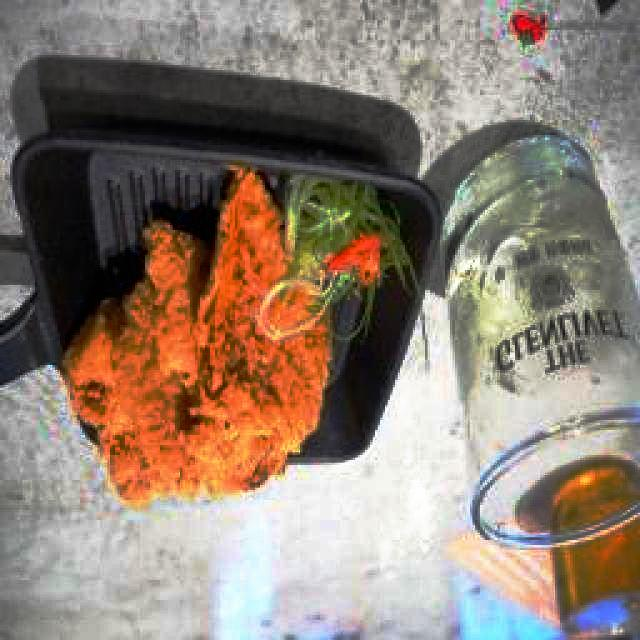drink: (442, 136, 640, 548), (544, 459, 640, 636)
fried_chicken: (65, 169, 334, 505)
